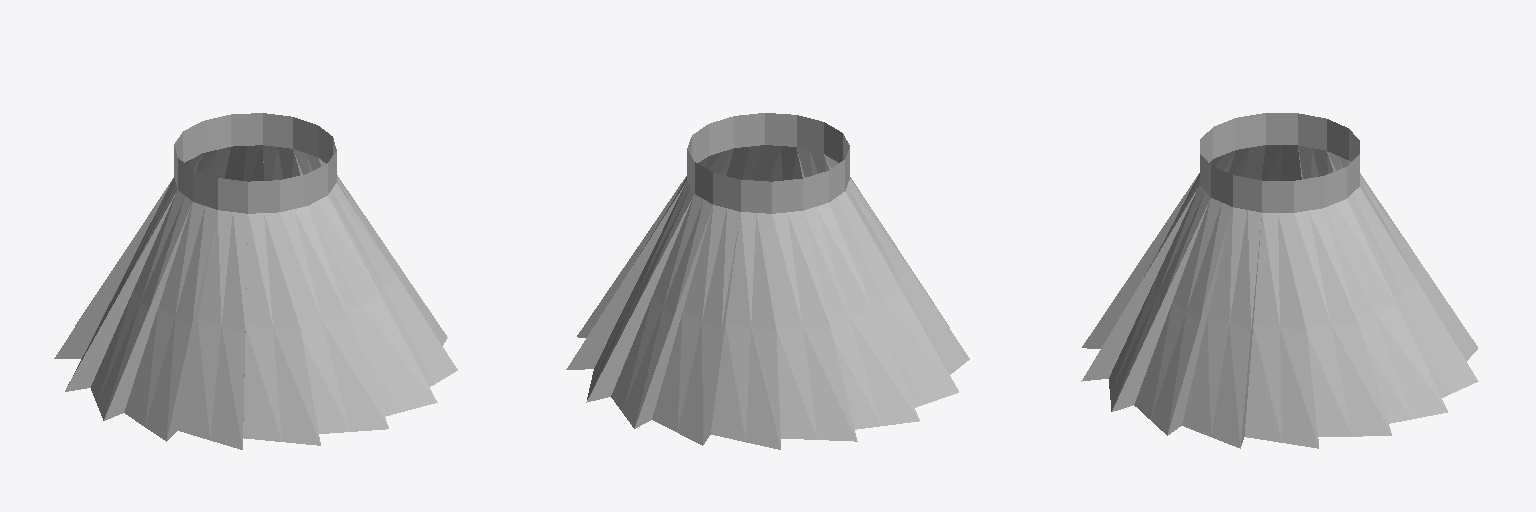
Rendered from skirt2.obj.
3 views of the same model, side by side, from view 1: azimuth 30°, elevation 25°; view 2: azimuth 150°, elevation 25°; view 3: azimuth 270°, elevation 25° (orthographic).
Visible parts, largest first — view 1: LSKIRT.001; view 2: LSKIRT.001; view 3: LSKIRT.001.
Part boxes in pixels (x1,y1,x2,y2): LSKIRT.001: (54, 113, 457, 449); LSKIRT.001: (566, 113, 969, 449); LSKIRT.001: (1081, 113, 1478, 448).
Size of the model in its own units: 2.63 by 1.59 by 2.63.